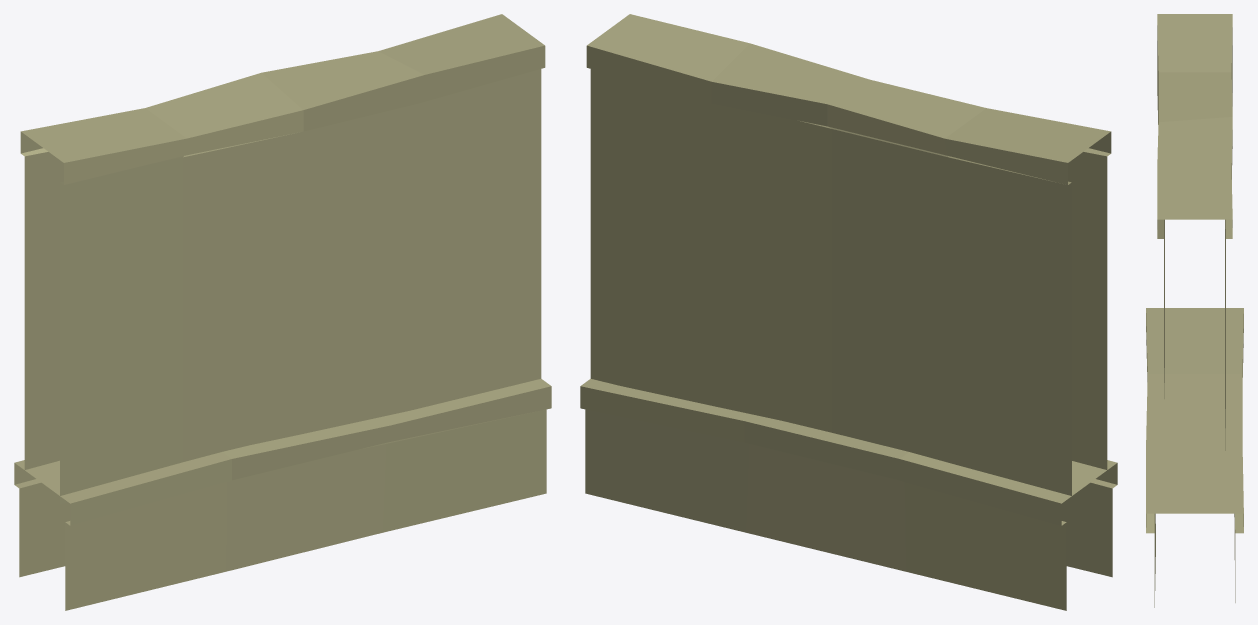
File: fence_3_mat.fbx
3 renders of one model, left to right at view 1: azimuth 30°, elevation 25°; view 2: azimuth 150°, elevation 25°; view 3: azimuth 270°, elevation 25°, orthographic. The views are drawn at different scales.
Visible parts, largest first — view 1: fence_3_mat; view 2: fence_3_mat; view 3: fence_3_mat.
Part boxes in pixels (left/top/right/bottom): fence_3_mat: left=14, top=14, right=551, bottom=610; fence_3_mat: left=580, top=14, right=1117, bottom=610; fence_3_mat: left=1146, top=14, right=1243, bottom=607.
Bounding box in the file's own units: 638 × 566 × 128.
